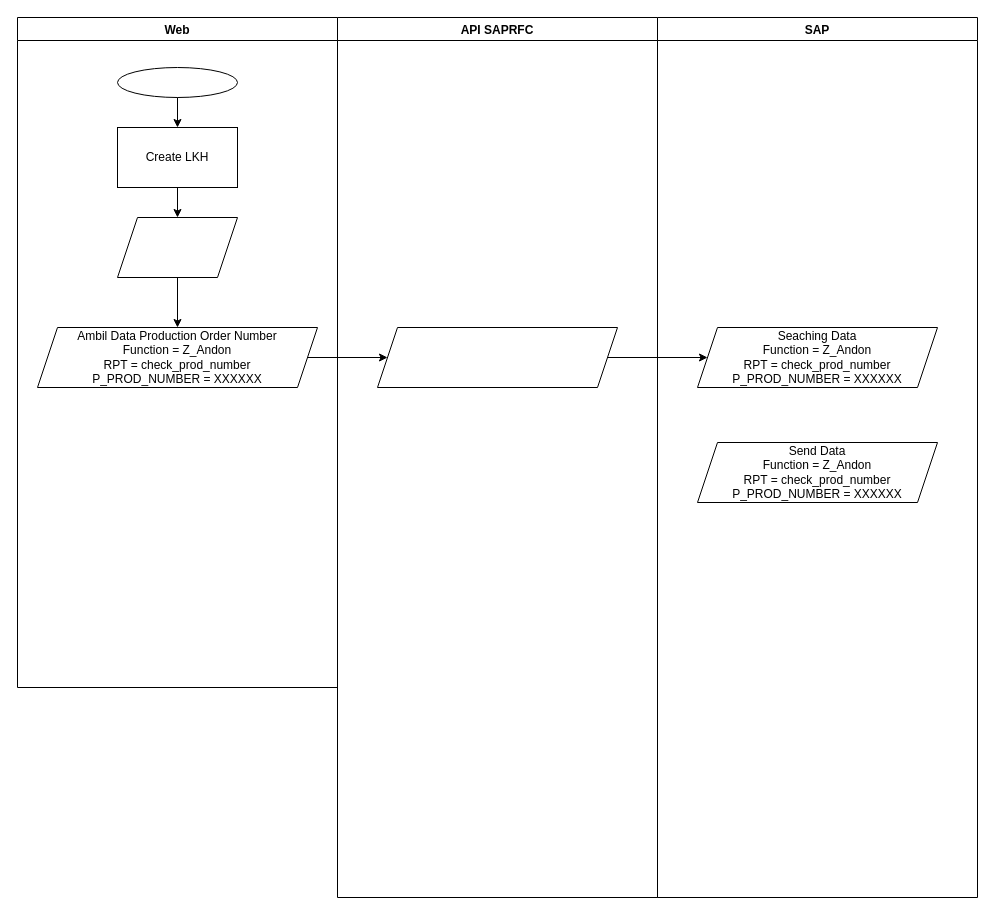
The diagram is 995 pixels wide and 915 high, and some of its shapes have lost their labels. The shapes that lost their labels are listed below. From the top down, each one's centre as x and y in pixels, then its label:
the point at 177,82: Start
the point at 177,247: Input Production Order Number
the point at 497,357: Request ke SAP Function = Z_Andon RPT = check_prod_number P_PROD_NUMBER = XXXXXX
